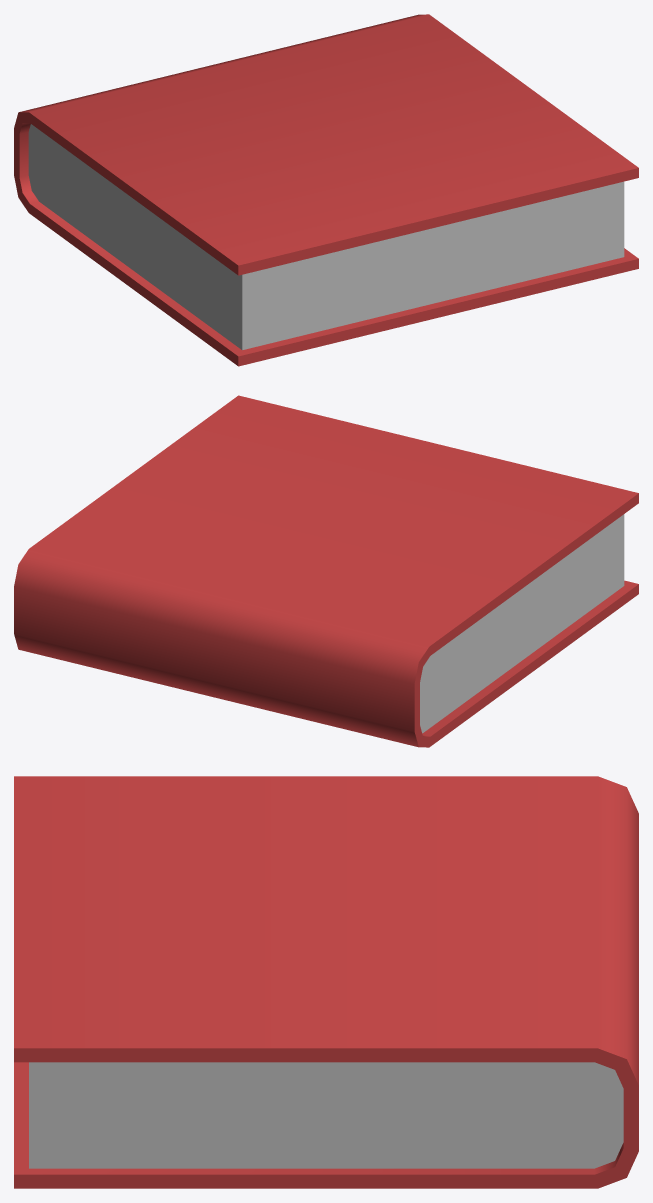
File: Book.fbx
3 views of the same model, one above another, from view 1: azimuth 30°, elevation 25°; view 2: azimuth 150°, elevation 25°; view 3: azimuth 270°, elevation 25° (orthographic). The views are drawn at different scales.
Parts seen in each view (by area): view 1: Book; view 2: Book; view 3: Book.
Part boxes in pixels (bbox=[...]): Book: bbox=[14, 14, 638, 366]; Book: bbox=[14, 395, 638, 747]; Book: bbox=[14, 776, 638, 1188].
Bounding box in the file's own units: 417 × 100 × 405.
